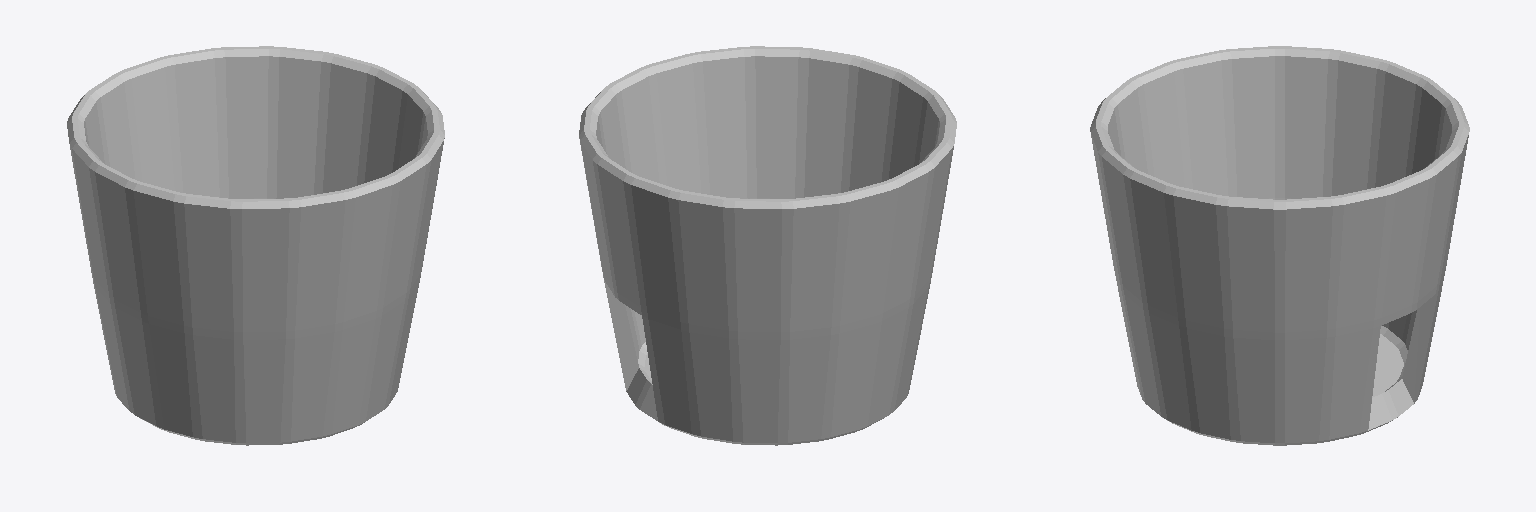
File: obj_glass.obj
3 views of the same model, side by side, from view 1: azimuth 30°, elevation 25°; view 2: azimuth 150°, elevation 25°; view 3: azimuth 270°, elevation 25° (orthographic).
Visible parts, largest first — view 1: pCylinder1; view 2: pCylinder1; view 3: pCylinder1.
Boxes of the visible parts, <box> form: pCylinder1: <box>67,46,444,445</box>; pCylinder1: <box>579,46,956,445</box>; pCylinder1: <box>1090,46,1469,445</box>.
Bounding box in the file's own units: 2.65 × 2.04 × 2.65.